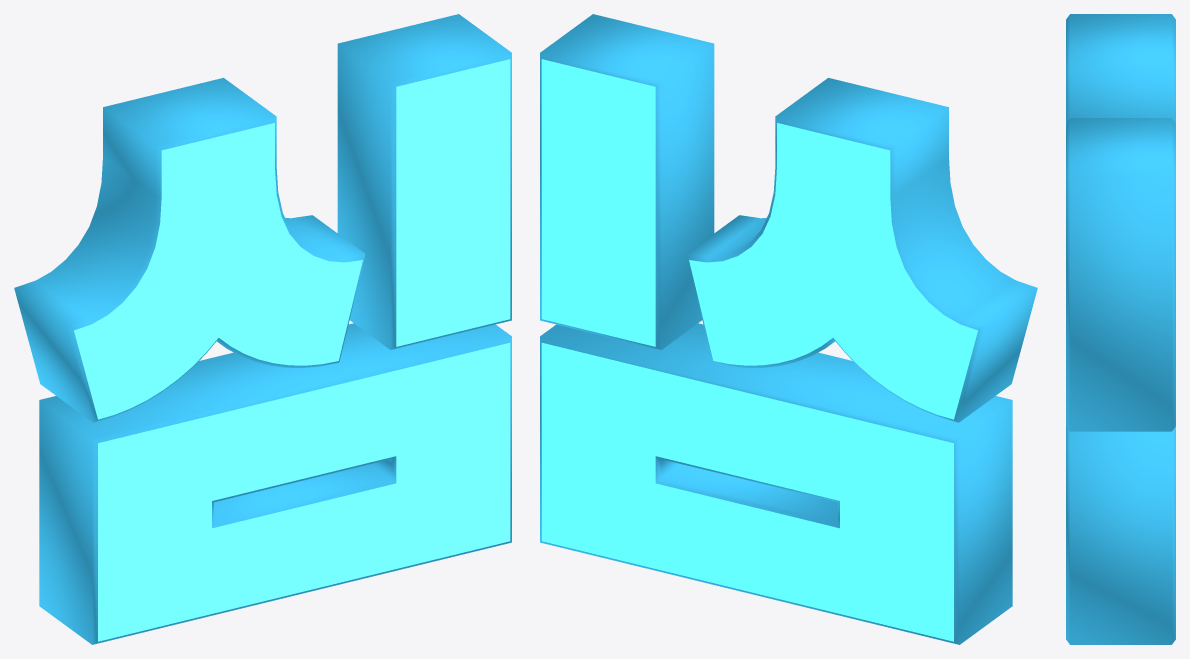
The picture shows the model from 3 angles, left to right: view 1: azimuth 30°, elevation 25°; view 2: azimuth 150°, elevation 25°; view 3: azimuth 270°, elevation 25°; orthographic projection. The views are drawn at different scales.
Parts seen in each view (by area): view 1: glyph; view 2: glyph; view 3: glyph.
Part boxes in pixels (x1,y1,x2,y2): glyph: (14, 14, 511, 644); glyph: (540, 14, 1037, 644); glyph: (1066, 14, 1175, 644).
Bounding box in the file's own units: 0.0728 × 0.0766 × 0.0162.
